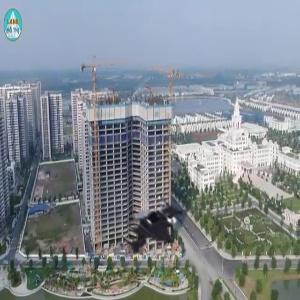drone: (106, 179, 203, 276)
